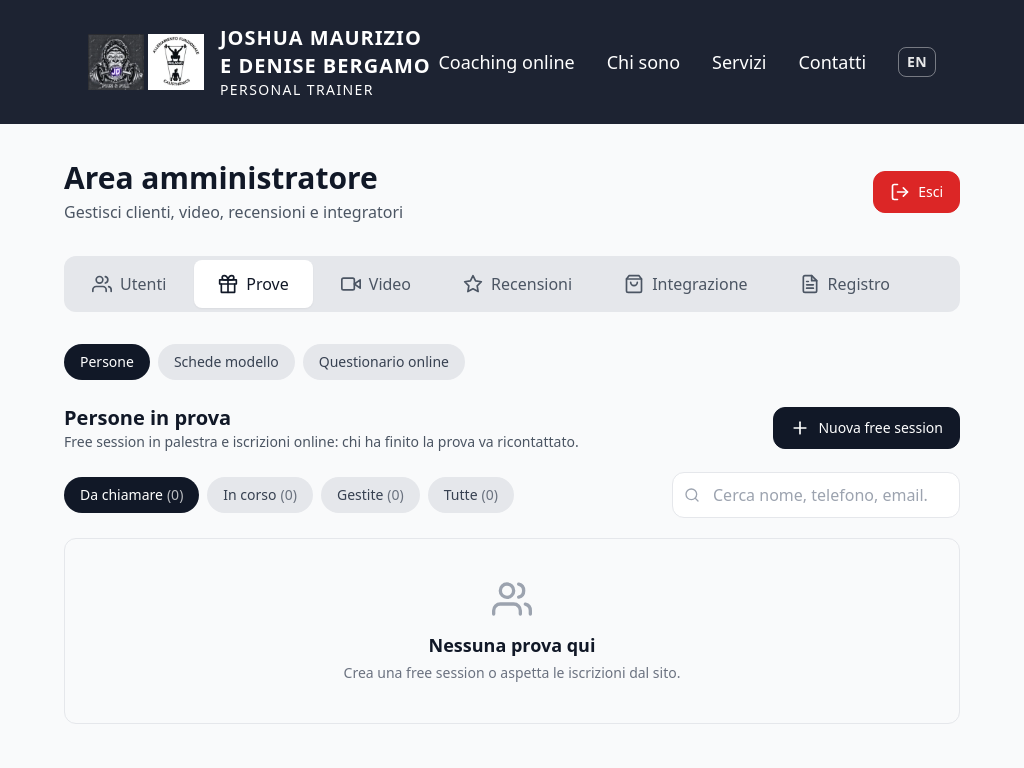
Admin — trials › creates a free session and shows the link to send
The width and height of the screenshot is (1024, 768).
Click the button "Nuova free session" at (867, 428), box [773,407,960,449]
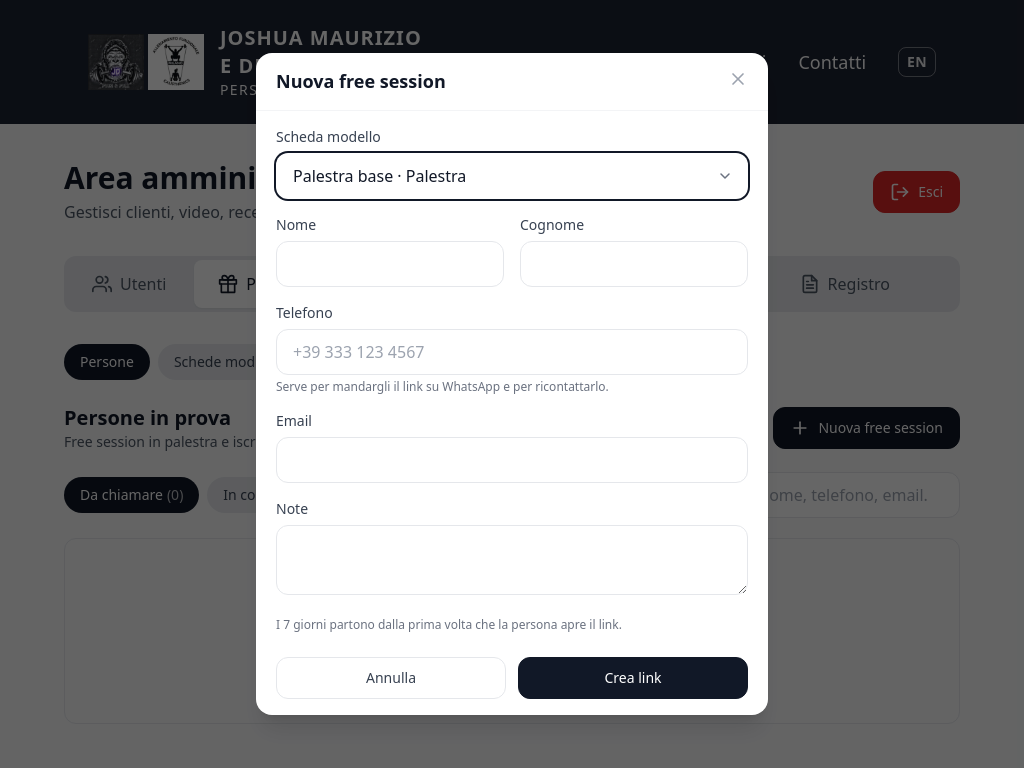
Type "Sara" into the field labelled "Nome" at (390, 264), box [276,241,504,287]
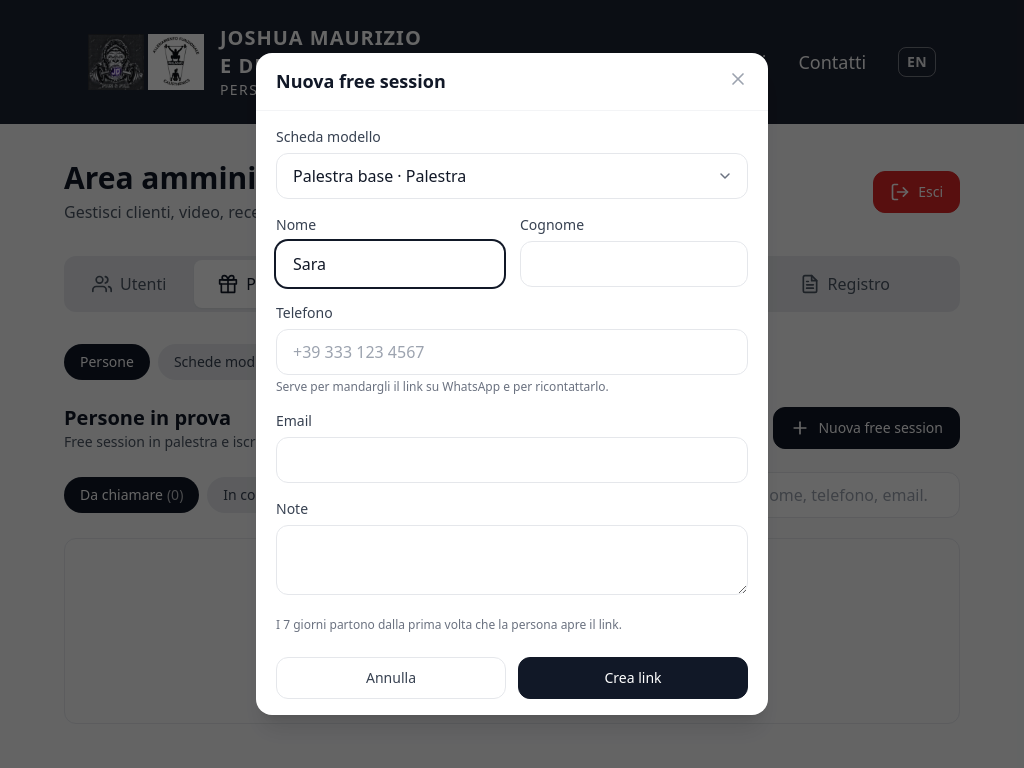
Type "333 1234567" into the field labelled "Telefono" at (512, 352), box [276,329,748,375]
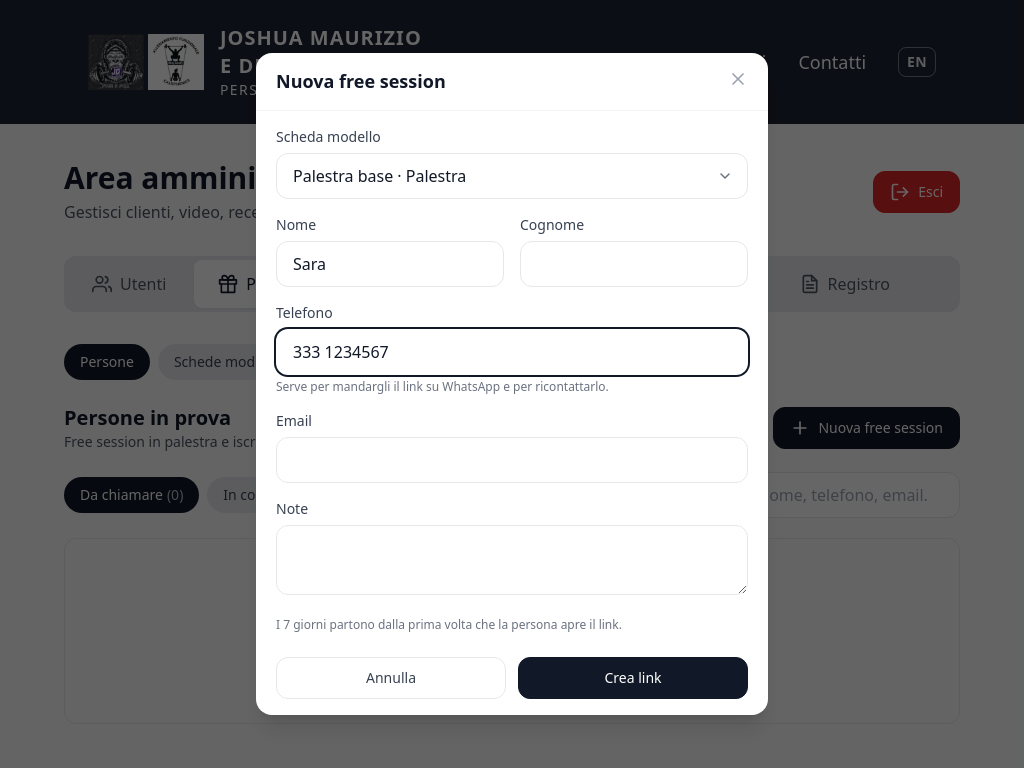
Click the button "Crea link" at (633, 678), box [518,657,748,699]
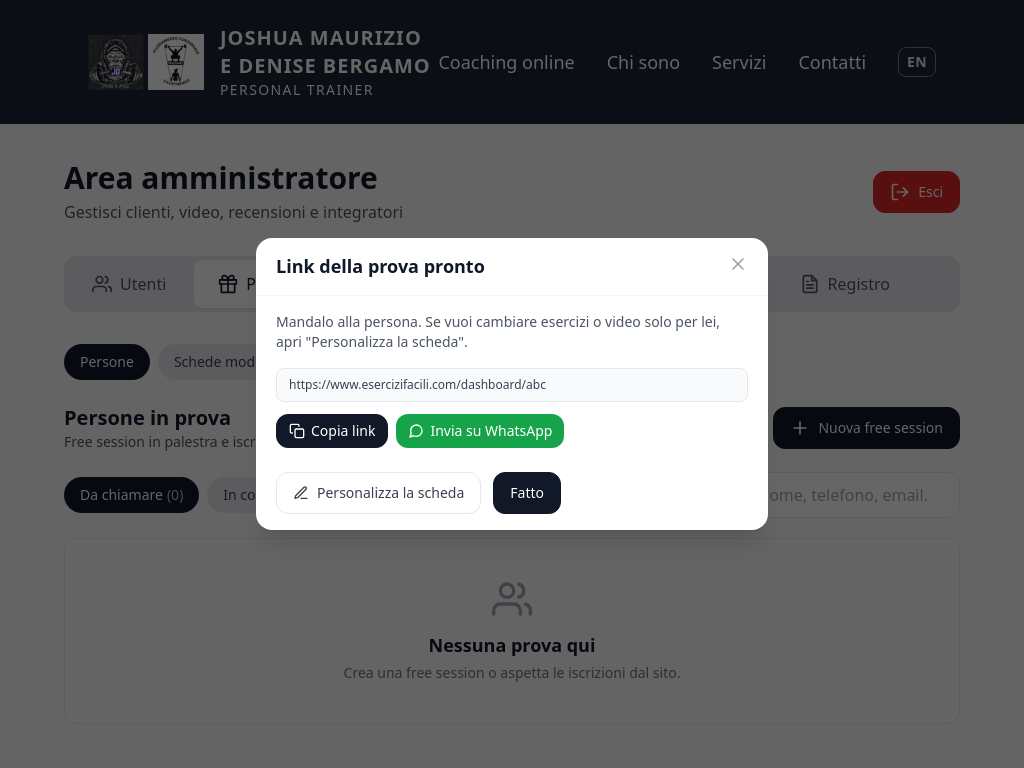
Expected: the field showing "https://www.esercizifacili.com/dashboard/abc" is shown, [276,368,748,402]
